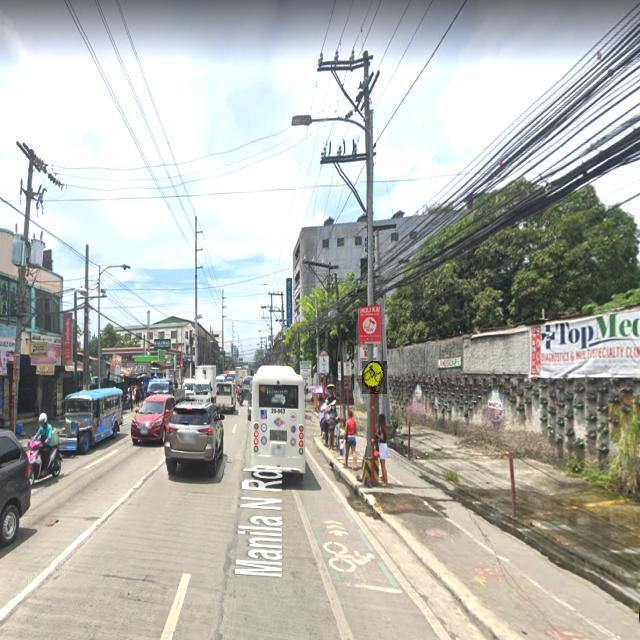bike lane: (362, 362, 387, 396)
